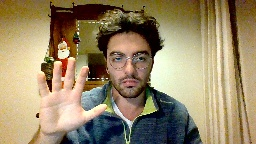Mano_aperta: (35, 54, 108, 136)
